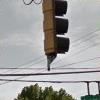traffic lights: (41, 0, 71, 55)
